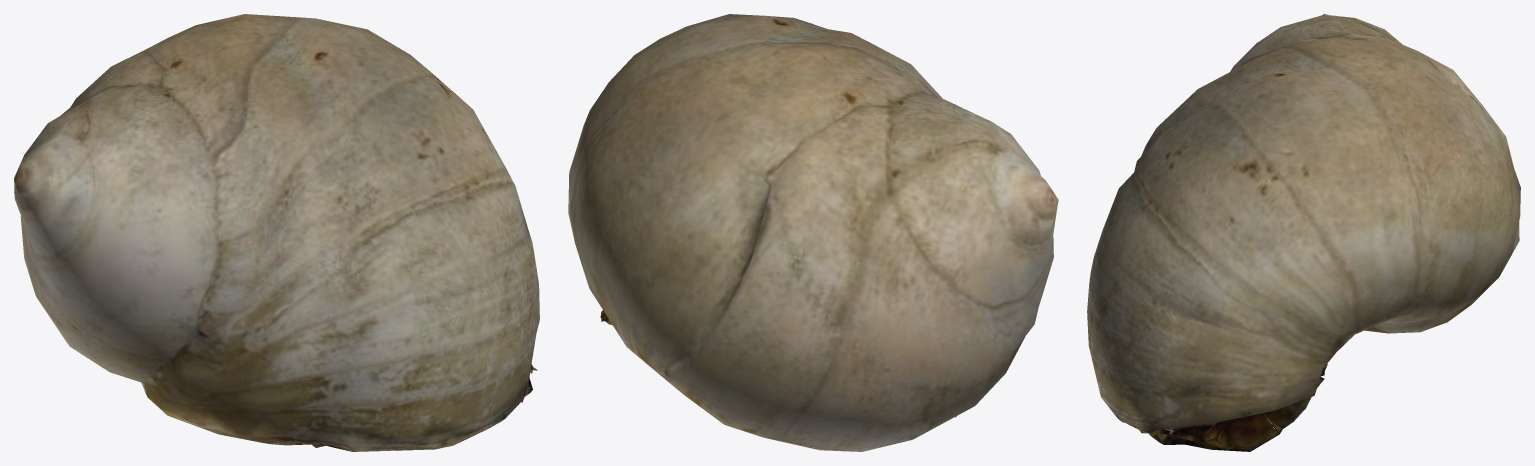
File: scan_moon_snail.glb
The picture shows the model from 3 angles, left to right: view 1: azimuth 30°, elevation 25°; view 2: azimuth 150°, elevation 25°; view 3: azimuth 270°, elevation 25°; orthographic projection. The views are drawn at different scales.
Parts seen in each view (by area): view 1: scan_moon_snail; view 2: scan_moon_snail; view 3: scan_moon_snail.
Boxes of the visible parts, x1=… form: scan_moon_snail: x1=14, y1=14, x2=539, y2=451; scan_moon_snail: x1=568, y1=14, x2=1058, y2=451; scan_moon_snail: x1=1087, y1=14, x2=1520, y2=451.
Bounding box in the file's own units: 0.1102 × 0.0785 × 0.0981.
1 material, 1 textured.
